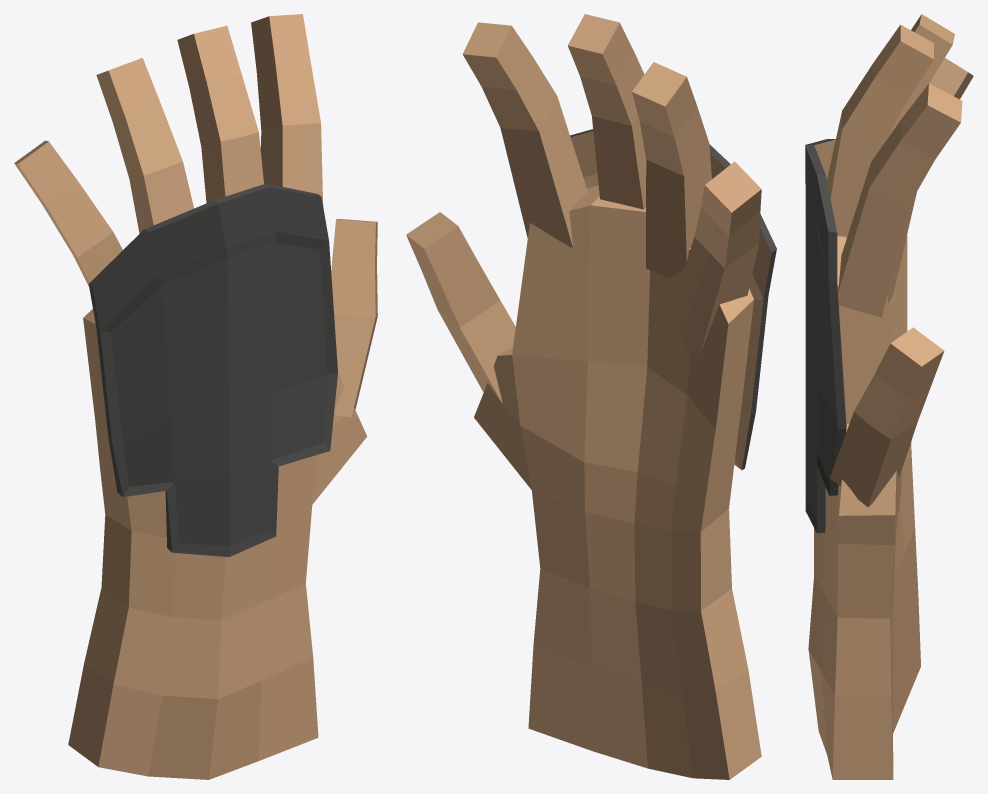
The model's file is Quickhand.fbx.
The picture shows the model from 3 angles, left to right: view 1: azimuth 30°, elevation 25°; view 2: azimuth 150°, elevation 25°; view 3: azimuth 270°, elevation 25°; orthographic projection. The views are drawn at different scales.
Parts seen in each view (by area): view 1: Cube.006; view 2: Cube.006; view 3: Cube.006.
Boxes of the visible parts, <box> form: Cube.006: <box>14,14,377,779</box>; Cube.006: <box>406,14,776,779</box>; Cube.006: <box>805,14,973,779</box>.
Size of the model in its own units: 16.44 by 31.91 by 6.77.
